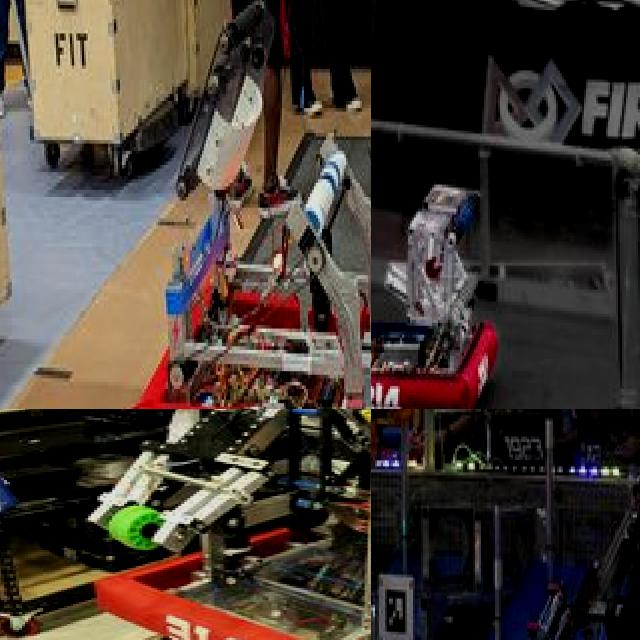FRC-Robots: (132, 11, 371, 409), (13, 409, 371, 640), (371, 0, 498, 409), (502, 409, 640, 640)
